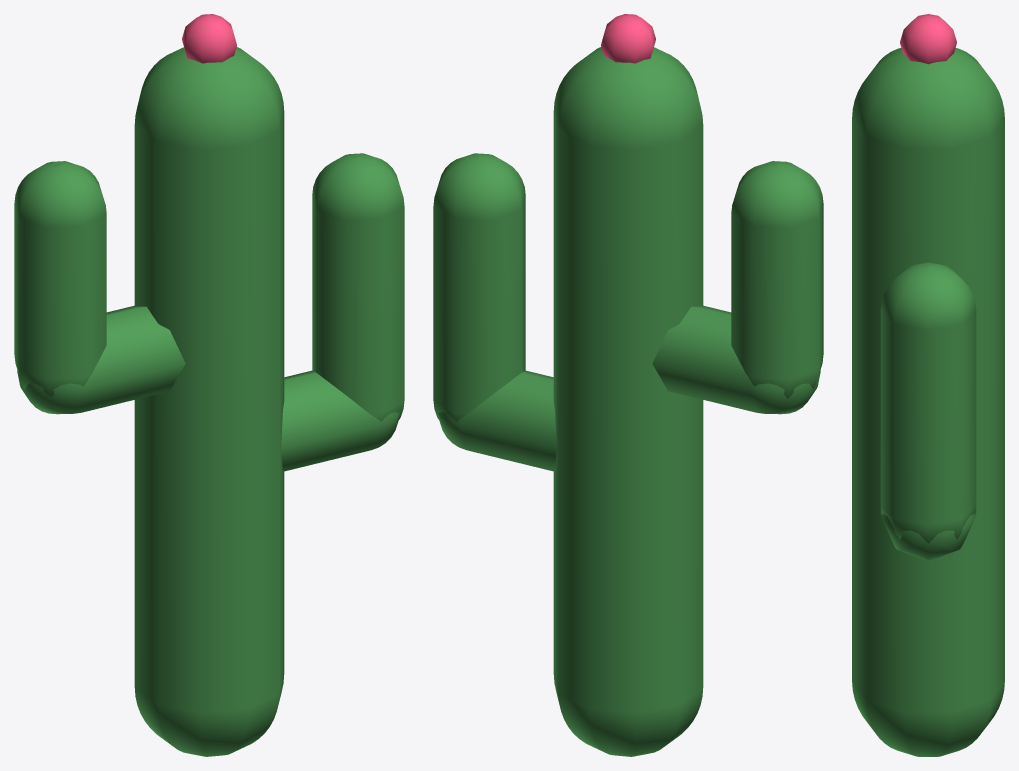
File: cactus.glb
3 renders of one model, left to right at view 1: azimuth 30°, elevation 25°; view 2: azimuth 150°, elevation 25°; view 3: azimuth 270°, elevation 25°, orthographic.
Parts seen in each view (by area): view 1: cactus; view 2: cactus; view 3: cactus.
Boxes of the visible parts, bbox=[...] form: cactus: bbox=[14, 14, 404, 756]; cactus: bbox=[433, 14, 823, 756]; cactus: bbox=[852, 14, 1004, 756].
Size of the model in its own units: 1.84 by 3.39 by 0.64.
